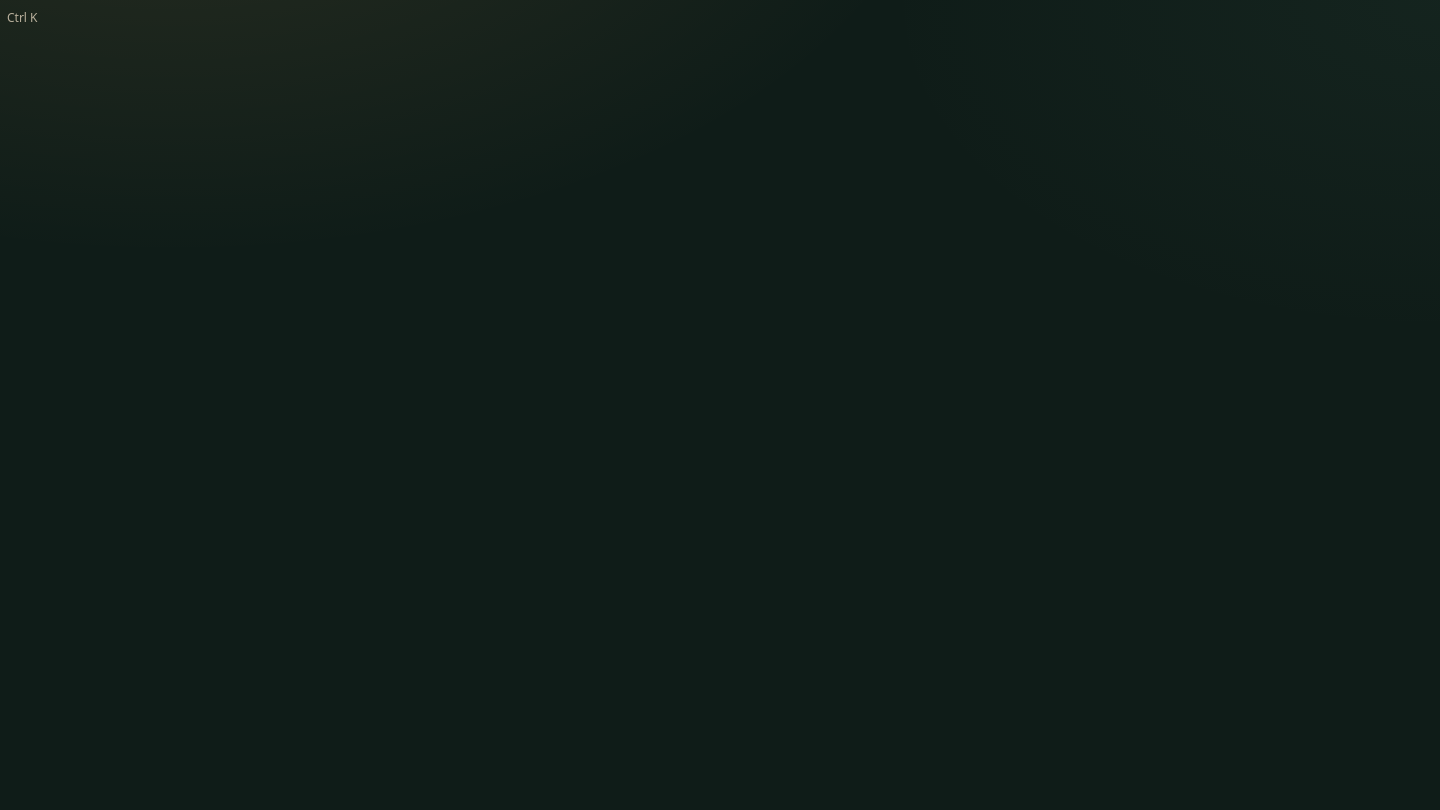
it: JumpBox › ctrlKOpensTheJumpBox
The image size is (1440, 810).
Type keys "{Control>}k{/Control}"
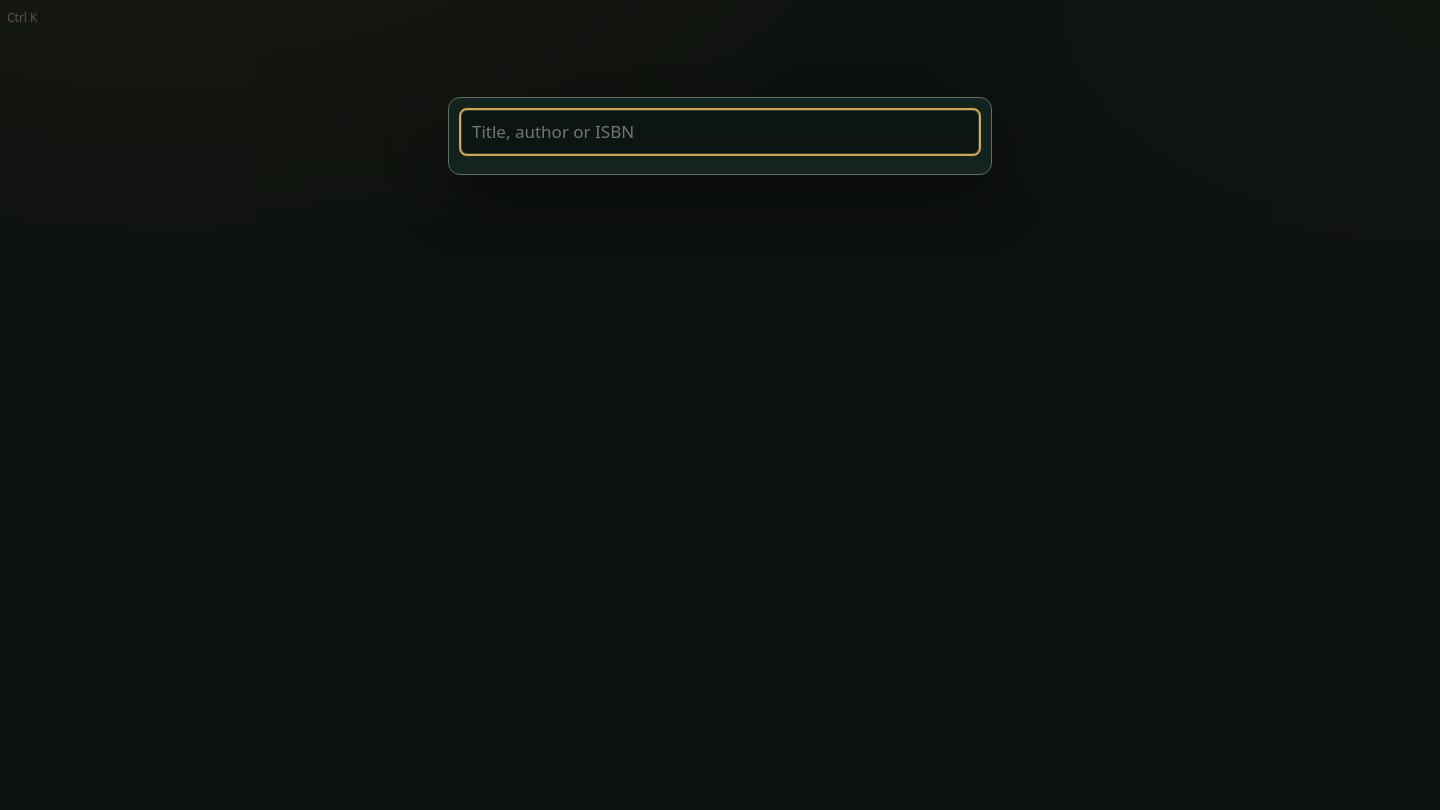
Now the dialog named "Jump to a book" is shown, box [448,97,992,175]
Press Escape
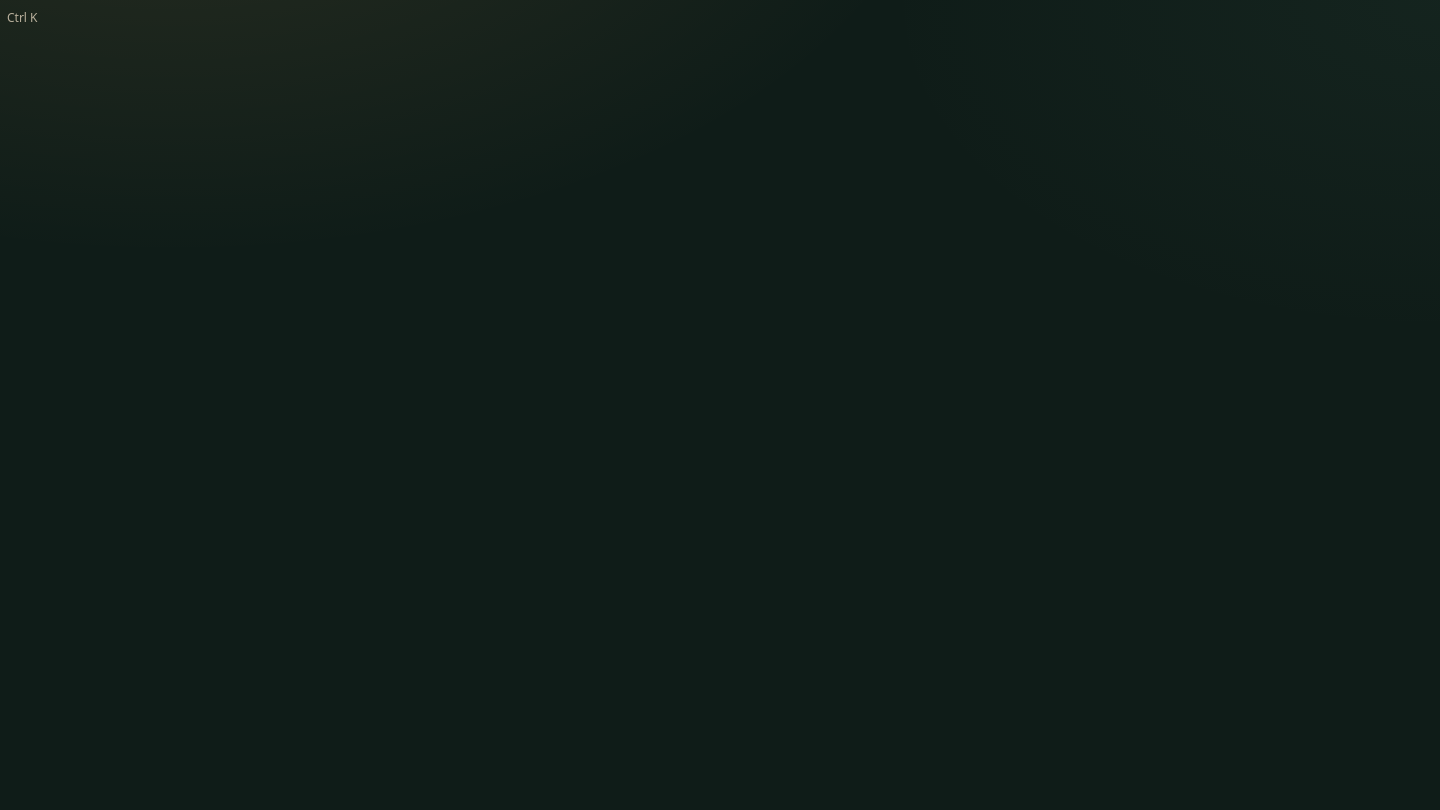
Now the dialog is gone
// The hint in the app bar opens it too.
Click the button with aria-label "Jump to a book": click(22, 16) [0,0,44,32]
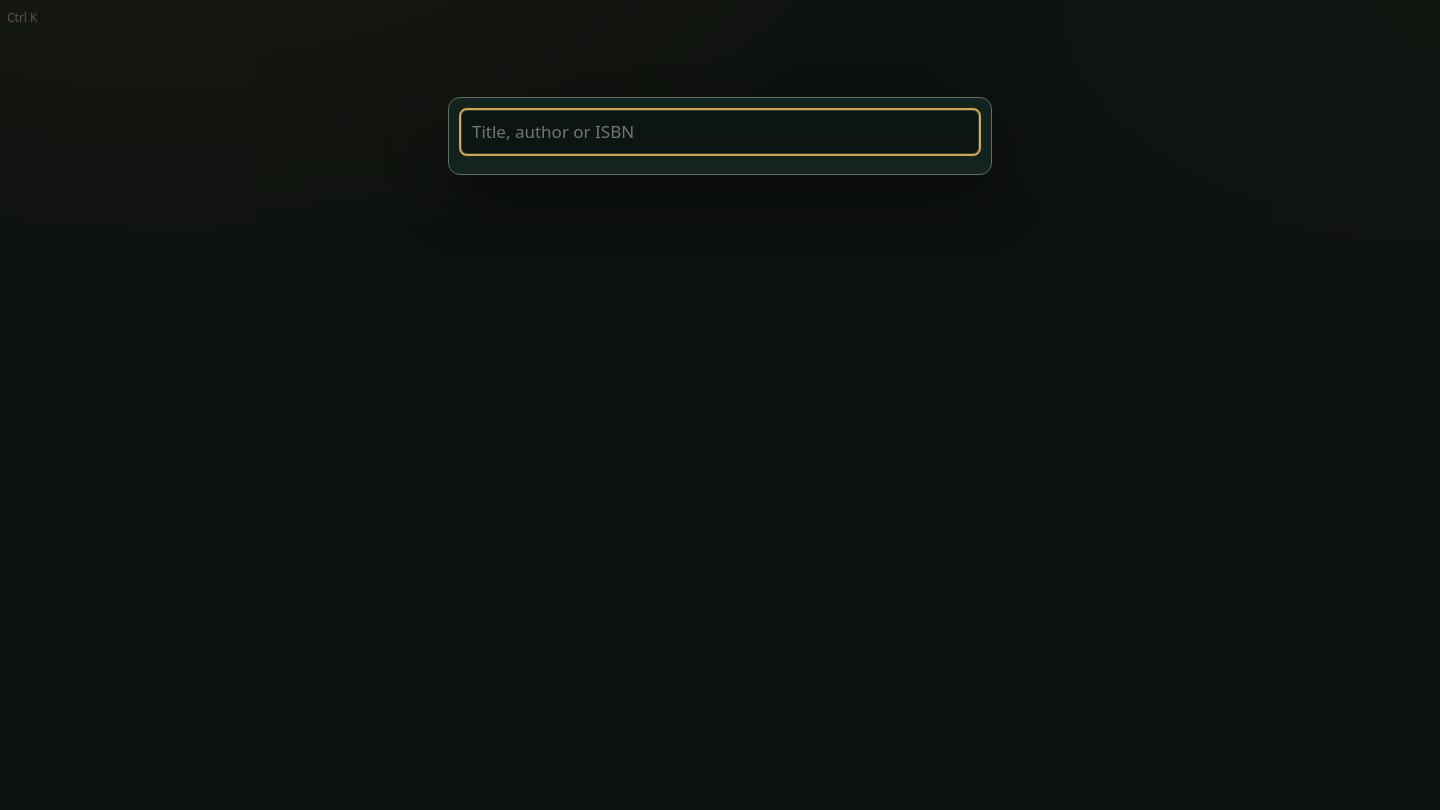
Now the dialog is shown, box [448,97,992,175]
